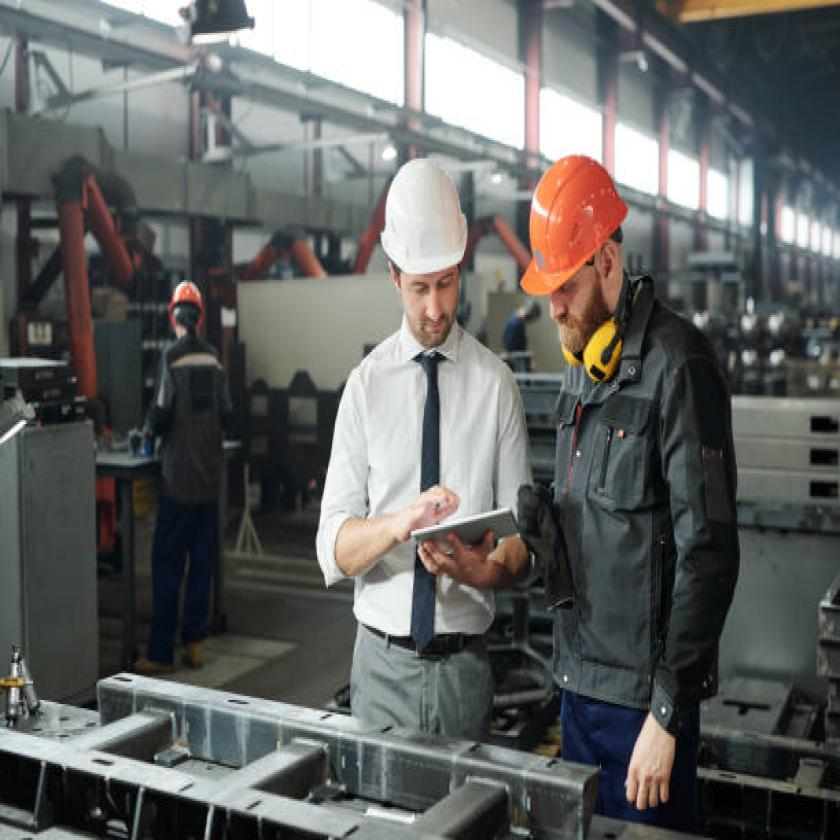Con_casco: (517, 148, 656, 391), (382, 124, 482, 355)
